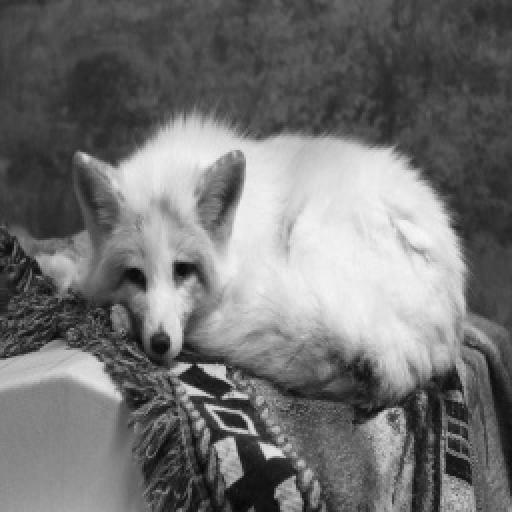zorro: (58, 112, 464, 410)
